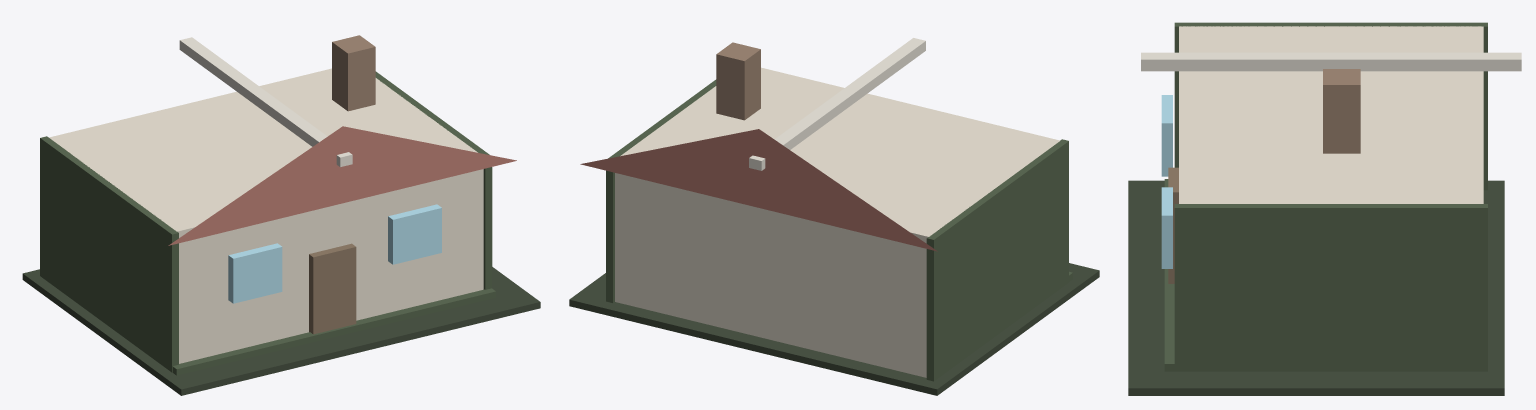
Rendered from building-house.glb.
3 views of the same model, side by side, from view 1: azimuth 30°, elevation 25°; view 2: azimuth 150°, elevation 25°; view 3: azimuth 270°, elevation 25° (orthographic). The views are drawn at different scales.
Visible parts, largest first — view 1: house; view 2: house; view 3: house.
Part boxes in pixels (<box>): house: <box>22,35,540,395</box>; house: <box>569,38,1099,395</box>; house: <box>1128,22,1521,395</box>.
Size of the model in its own units: 2.37 by 1.38 by 1.87.
